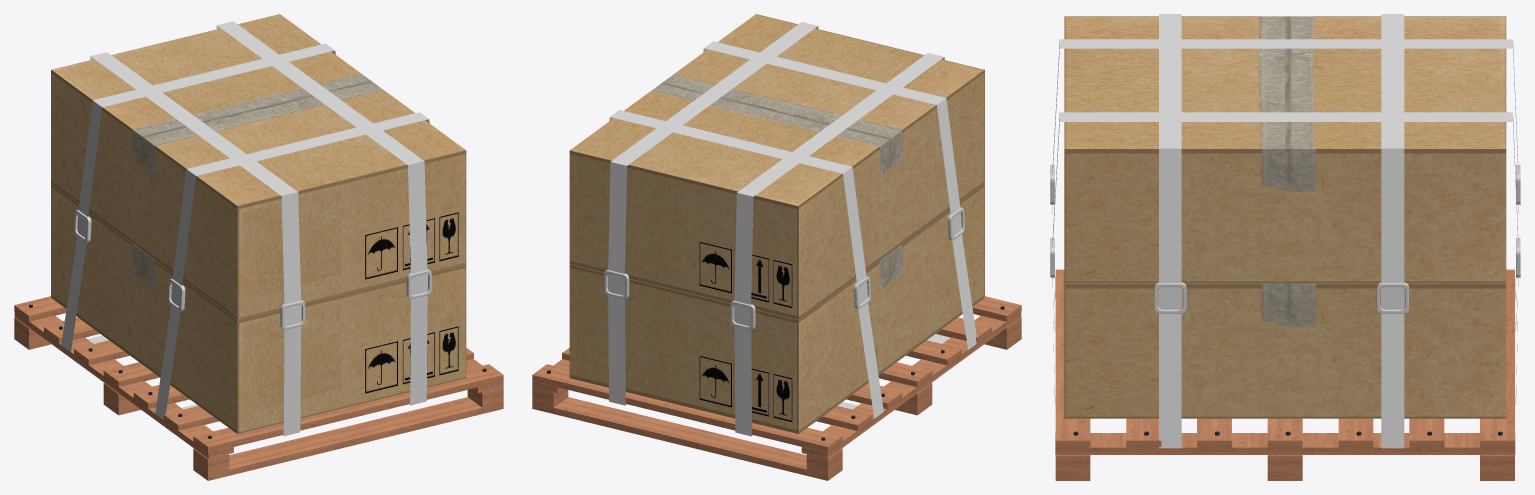
Rendered from caixa 01.fbx.
3 views of the same model, side by side, from view 1: azimuth 30°, elevation 25°; view 2: azimuth 150°, elevation 25°; view 3: azimuth 270°, elevation 25° (orthographic). The views are drawn at different scales.
Parts seen in each view (by area): view 1: Cube.005, Package Set (2), Cube.004; view 2: Cube.005, Package Set (2), Cube.004; view 3: Cube.005, Cube.004, Package Set (2).
Boxes of the visible parts, left/top/right/bottom form: Cube.005: left=51, top=14, right=466, bottom=319; Package Set (2): left=14, top=21, right=503, bottom=480; Cube.004: left=51, top=184, right=466, bottom=433; Cube.005: left=569, top=14, right=984, bottom=319; Package Set (2): left=532, top=22, right=1021, bottom=480; Cube.004: left=569, top=184, right=984, bottom=433; Cube.005: left=1064, top=16, right=1506, bottom=283; Cube.004: left=1064, top=283, right=1506, bottom=418; Package Set (2): left=1050, top=14, right=1520, bottom=480.
Bounding box in the file's own units: 377 × 323 × 438.
